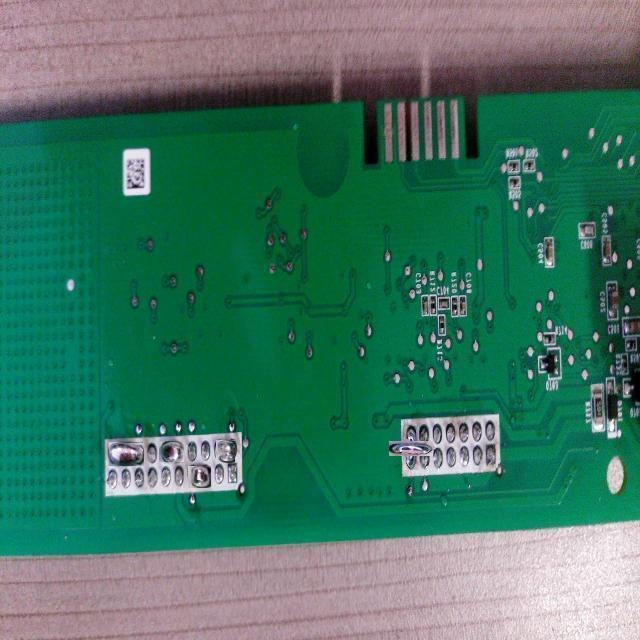Short_circuit: (396, 434, 426, 464), (108, 442, 144, 466), (160, 440, 184, 463), (188, 466, 211, 488), (215, 442, 236, 462)
